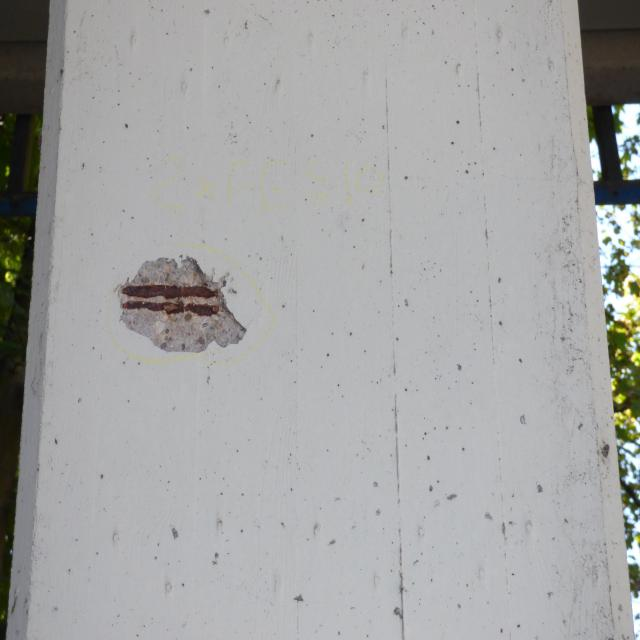corrosion: (109, 272, 236, 328)
